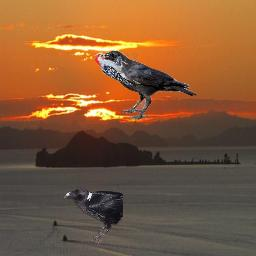Crow: (101, 50, 197, 120), (64, 188, 123, 246)
Woodpecker: (95, 53, 138, 88)
